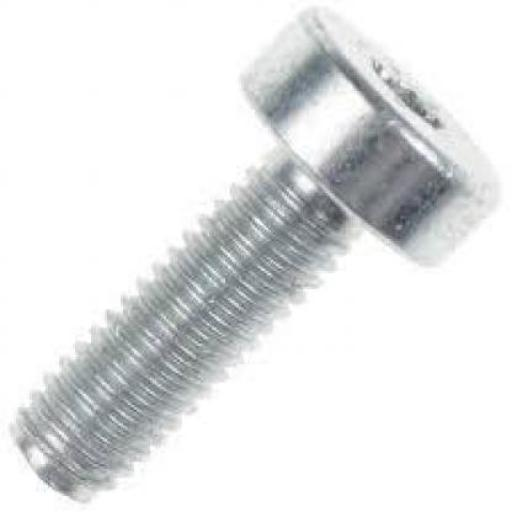Bolt: (10, 5, 502, 505)
